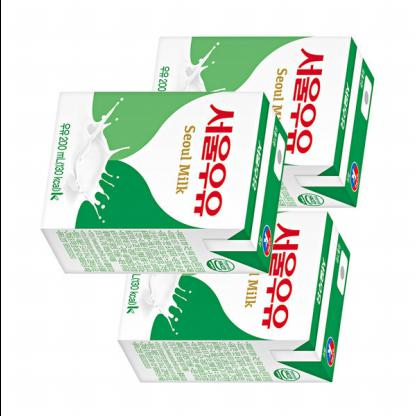tetra: (34, 78, 298, 286)
